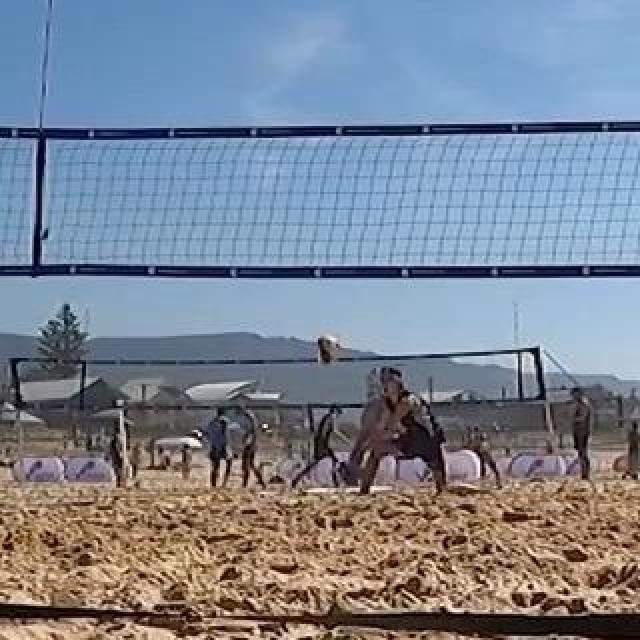volleyball: (315, 334, 341, 362)
